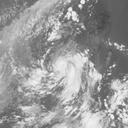cyclone: (47, 54, 83, 101)
